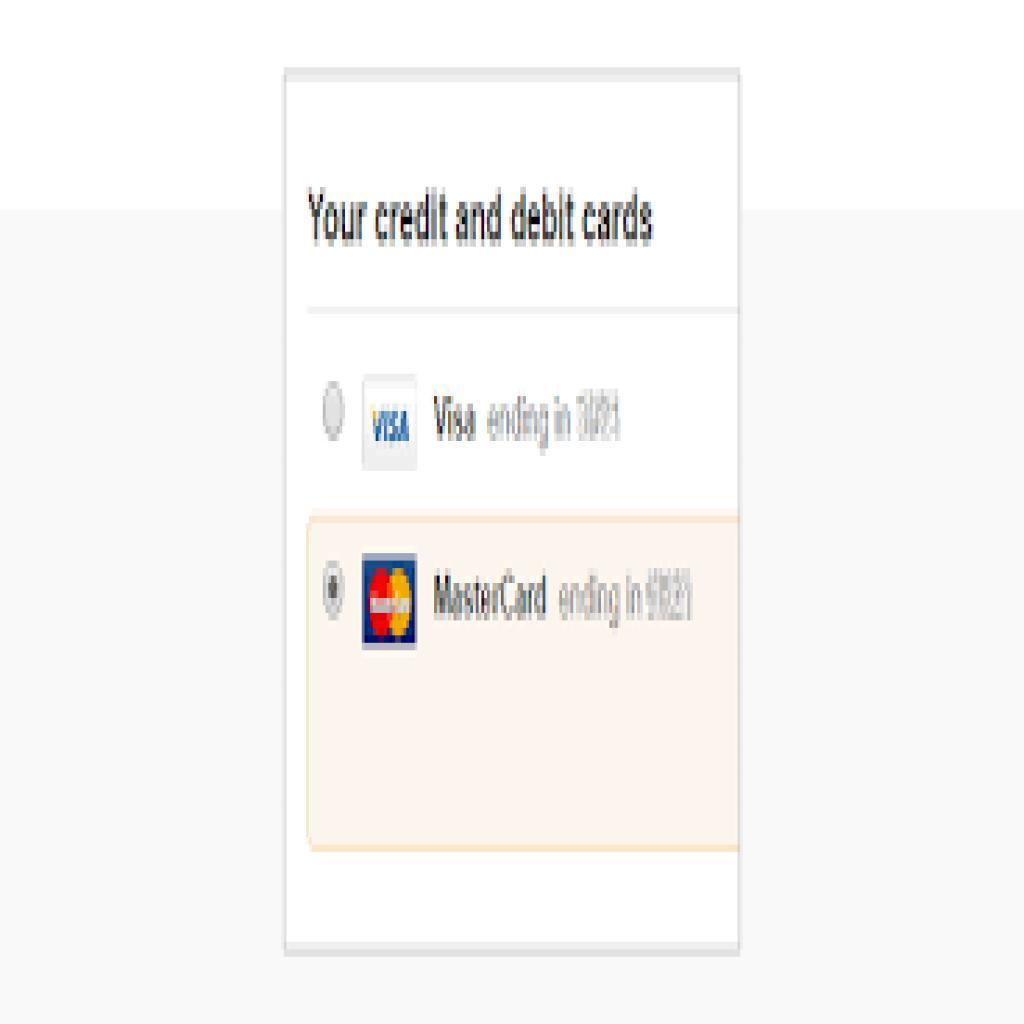radio: (320, 380, 346, 445), (322, 558, 348, 622)
